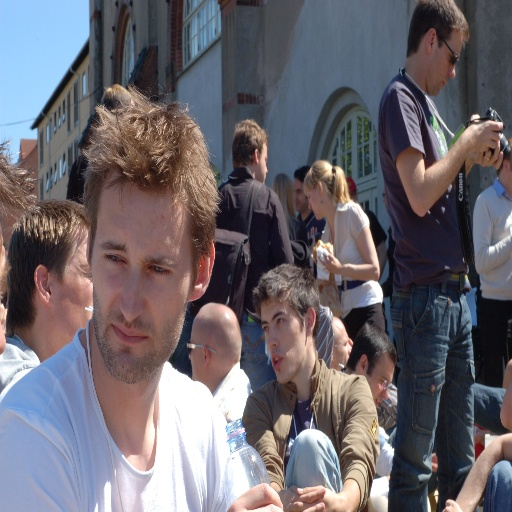hand: (226, 479, 285, 511), (286, 483, 347, 511), (280, 482, 325, 511), (468, 139, 504, 168), (318, 249, 342, 274), (310, 238, 329, 265), (441, 497, 462, 511), (429, 451, 438, 483), (306, 226, 317, 246)
